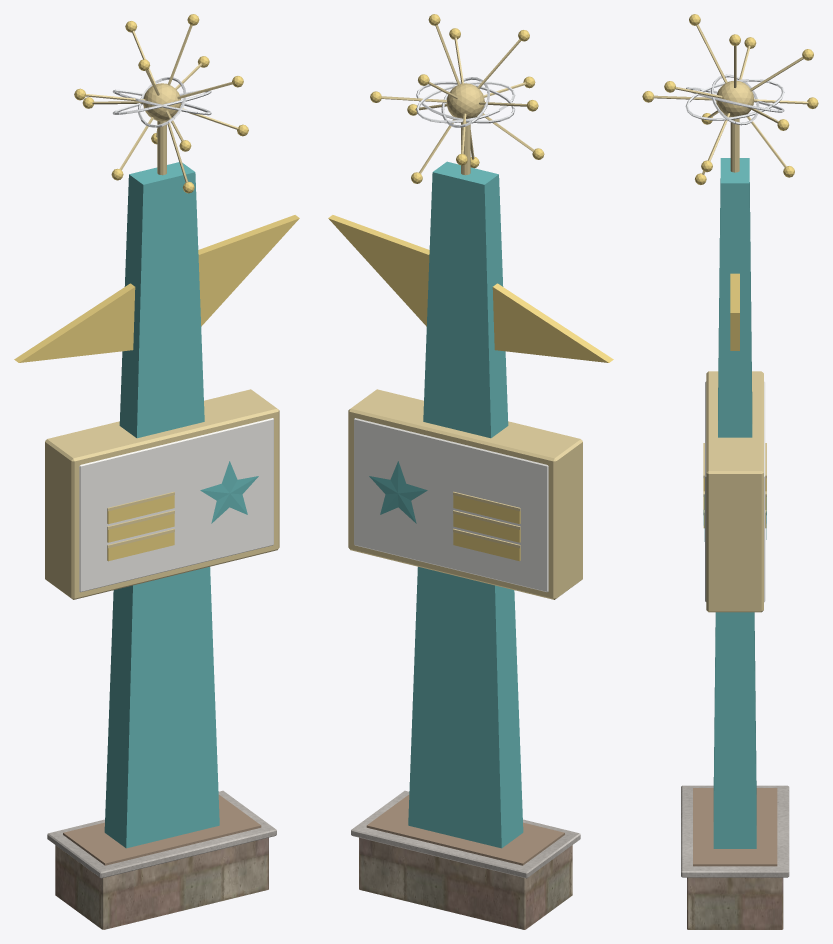
The model's file is totem.glb.
3 renders of one model, left to right at view 1: azimuth 30°, elevation 25°; view 2: azimuth 150°, elevation 25°; view 3: azimuth 270°, elevation 25°, orthographic.
Visible parts, largest first — view 1: totem_teal, totem_sign_w, totem_gold, totem_paint_y, totem_fstone, totem_mulch, totem_concrete, totem_chrome, totem_brass; view 2: totem_teal, totem_sign_w, totem_gold, totem_paint_y, totem_fstone, totem_mulch, totem_concrete, totem_chrome, totem_brass; view 3: totem_teal, totem_gold, totem_fstone, totem_mulch, totem_concrete, totem_paint_y, totem_chrome, totem_brass, totem_sign_w.
Part boxes in pixels (x1,y1,x2,y2): totem_teal: (104, 162, 258, 848); totem_sign_w: (79, 418, 273, 592); totem_gold: (45, 25, 279, 599); totem_paint_y: (14, 14, 299, 561); totem_fstone: (55, 837, 268, 929); totem_mulch: (63, 795, 261, 865); totem_concrete: (47, 790, 276, 878); totem_chrome: (112, 77, 211, 127); totem_brass: (143, 83, 181, 121); totem_teal: (369, 161, 523, 848); totem_sign_w: (354, 418, 548, 592); totem_gold: (348, 25, 582, 599); totem_paint_y: (328, 14, 613, 561); totem_fstone: (359, 837, 572, 929); totem_mulch: (366, 795, 564, 865); totem_concrete: (351, 790, 580, 878); totem_chrome: (416, 77, 515, 127); totem_brass: (446, 83, 484, 118); totem_teal: (703, 158, 766, 848); totem_gold: (653, 24, 808, 612); totem_fstone: (687, 877, 783, 929); totem_mulch: (693, 788, 777, 866); totem_concrete: (681, 785, 789, 877); totem_paint_y: (642, 14, 818, 528); totem_chrome: (685, 74, 784, 125); totem_brass: (716, 81, 754, 117); totem_sign_w: (705, 381, 765, 601).
Size of the model in its own units: 2.7 by 7.99 by 1.47.
10 materials, 2 textured.
